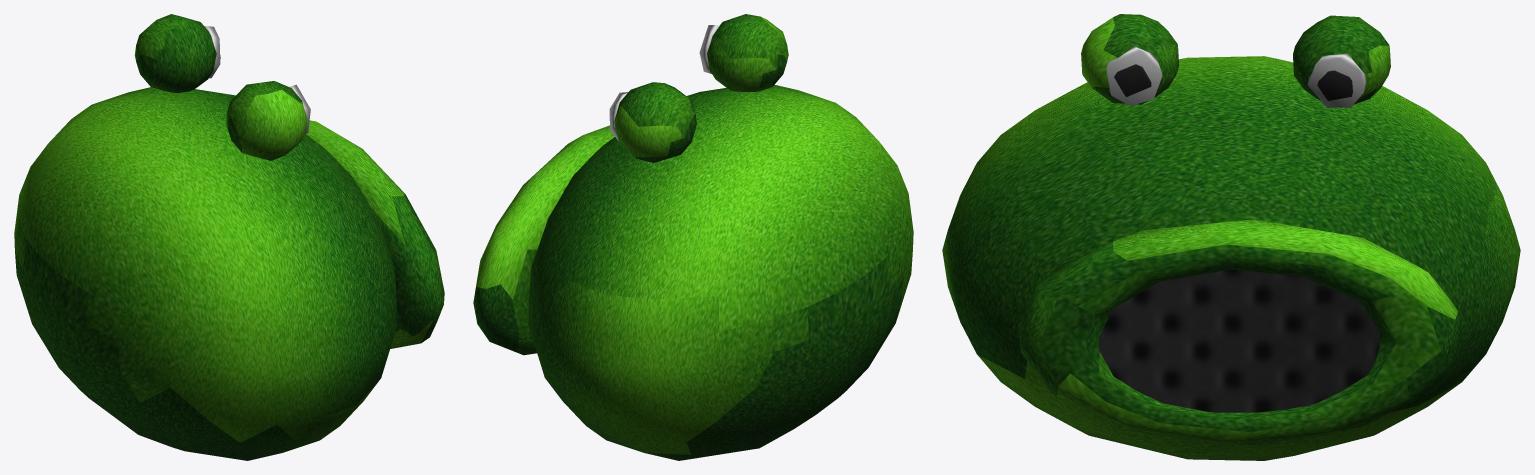
File: frog.dae
3 renders of one model, left to right at view 1: azimuth 30°, elevation 25°; view 2: azimuth 150°, elevation 25°; view 3: azimuth 270°, elevation 25°, orthographic. The views are drawn at different scales.
Parts seen in each view (by area): view 1: Cylinder_001; view 2: Cylinder_001; view 3: Cylinder_001.
Boxes of the visible parts, x1,y1,x2,y2 form: Cylinder_001: (14,14,444,460); Cylinder_001: (473,14,913,460); Cylinder_001: (942,14,1520,460).
Bounding box in the file's own units: 1.75 × 2.46 × 2.04.
Materials: 9 (9 with a texture image).
